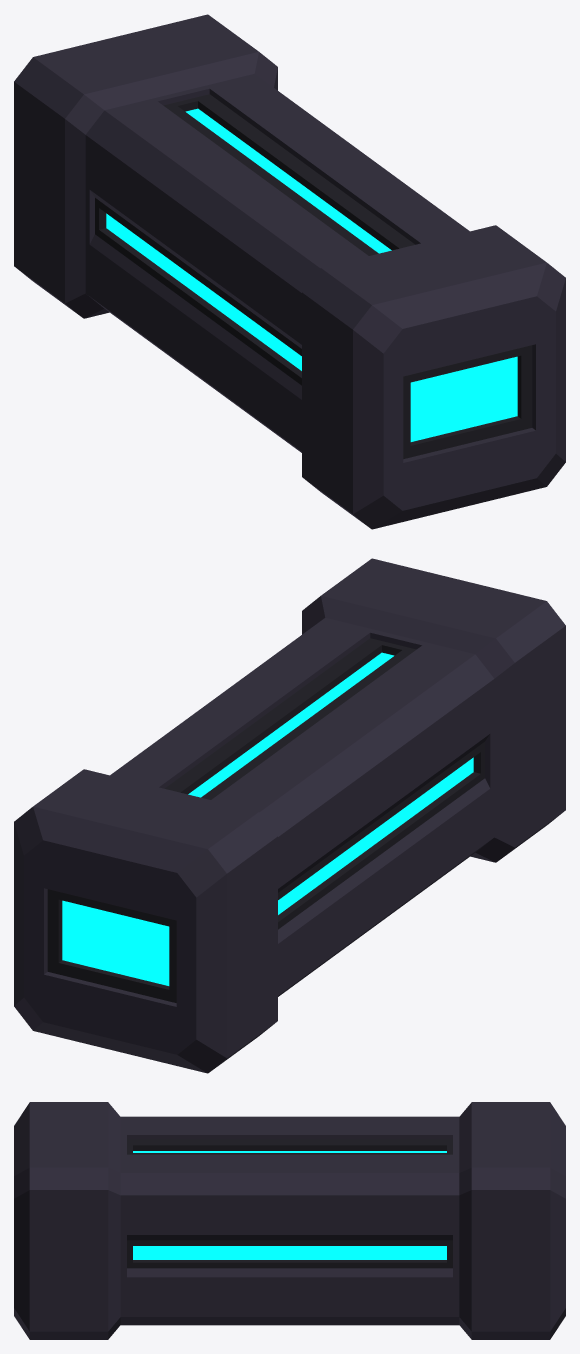
File: pipe.glb
The picture shows the model from 3 angles, top to bottom: view 1: azimuth 30°, elevation 25°; view 2: azimuth 150°, elevation 25°; view 3: azimuth 270°, elevation 25°; orthographic projection. The views are drawn at different scales.
Visible parts, largest first — view 1: Tuyau_Droit.001; view 2: Tuyau_Droit.001; view 3: Tuyau_Droit.001.
Boxes of the visible parts, x1,y1,x2,y2 form: Tuyau_Droit.001: (14, 14, 565, 529); Tuyau_Droit.001: (14, 558, 565, 1073); Tuyau_Droit.001: (14, 1102, 565, 1339).
Size of the model in its own units: 0.3003 by 0.3023 by 0.8779.
